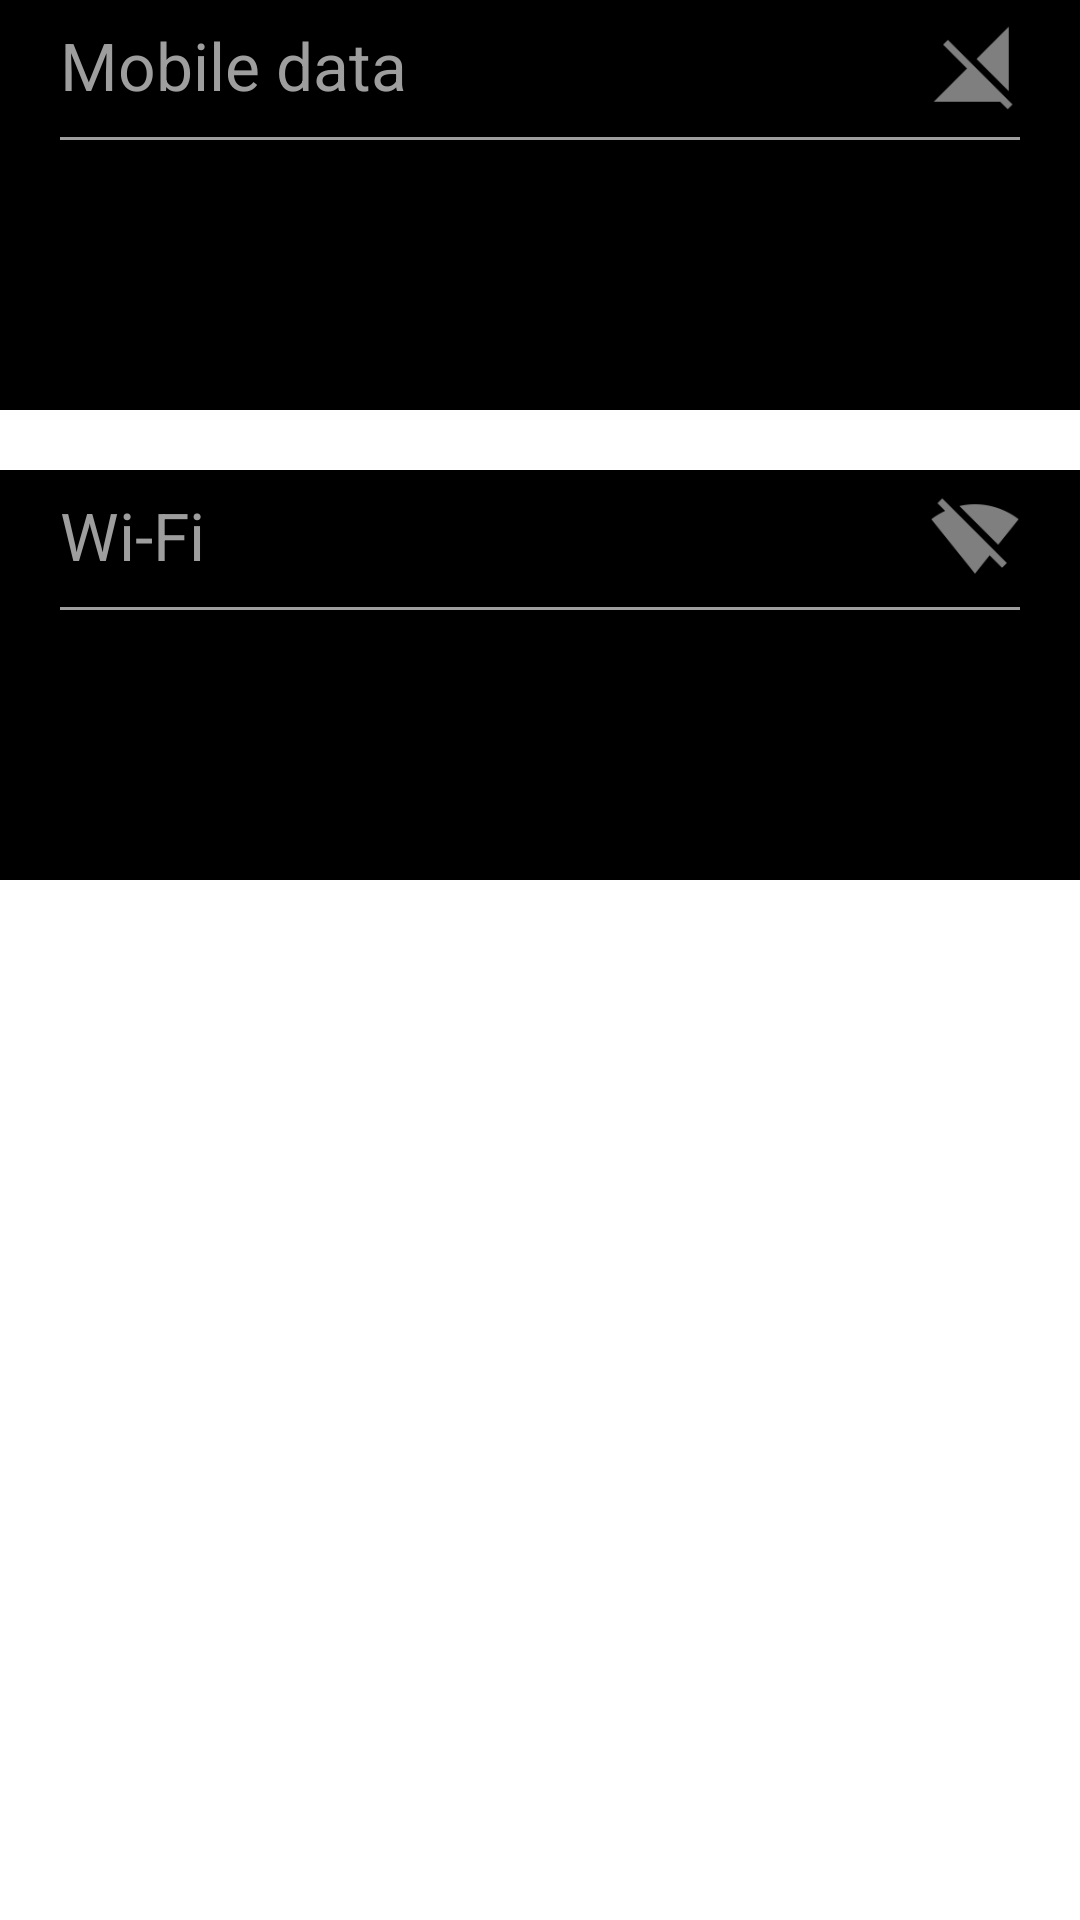

Point at icon controls on the screen. Image size 1080px x 1920px, points as (x,y).
signal cellular off: (973,68)
